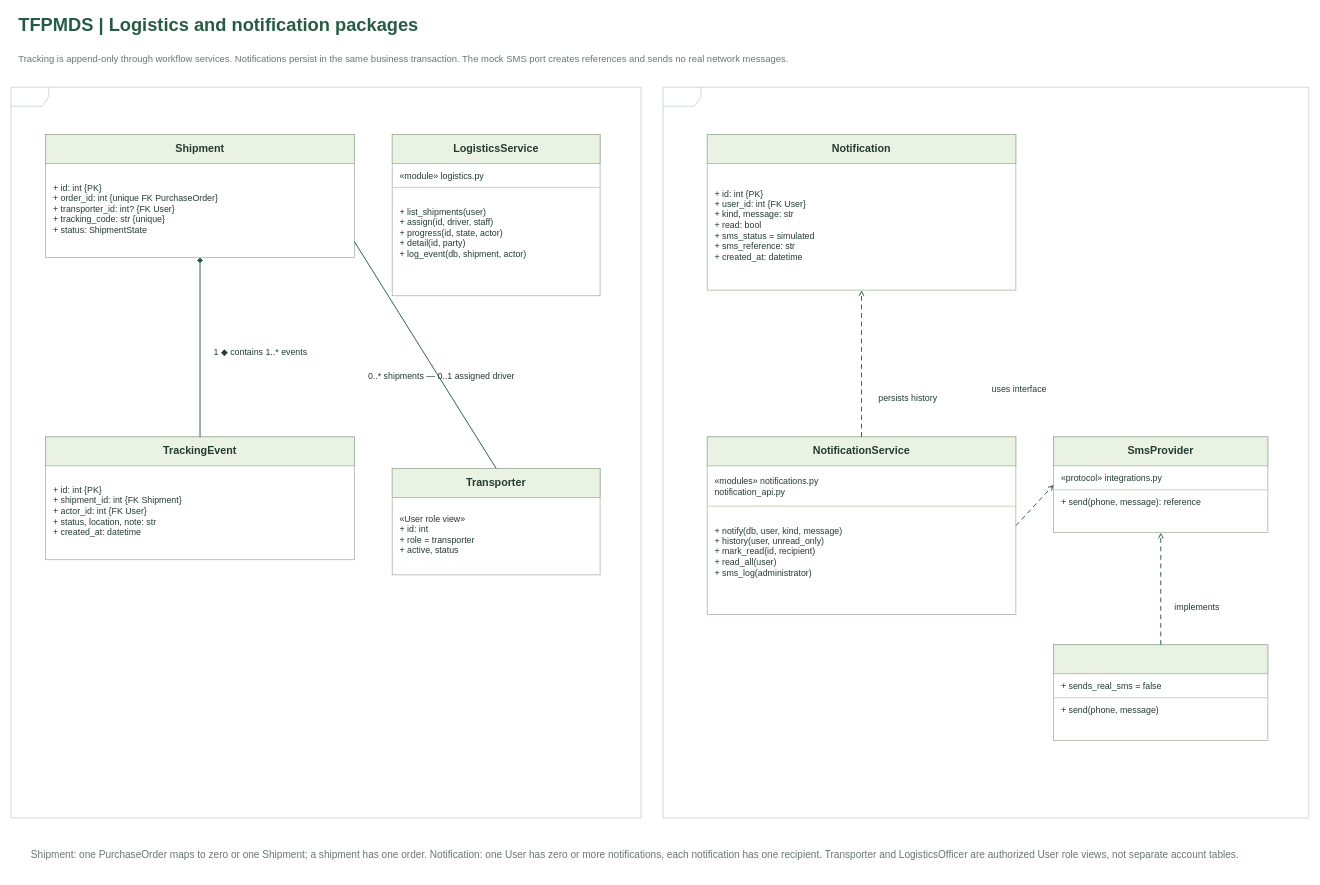
Some shapes in this 1320 by 885 pixel diagram are drawn without their labels. Each missing label, with the box of its shape:
LogisticsManagement: (10, 87, 641, 818)
MockSms: (1053, 644, 1268, 674)
NotificationManagement / ExternalIntegrations: (662, 87, 1309, 818)
